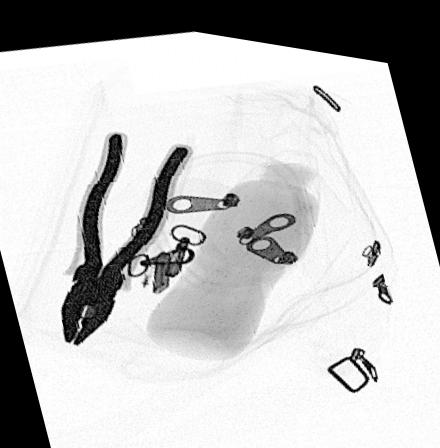Pliers: (55, 127, 193, 346)
